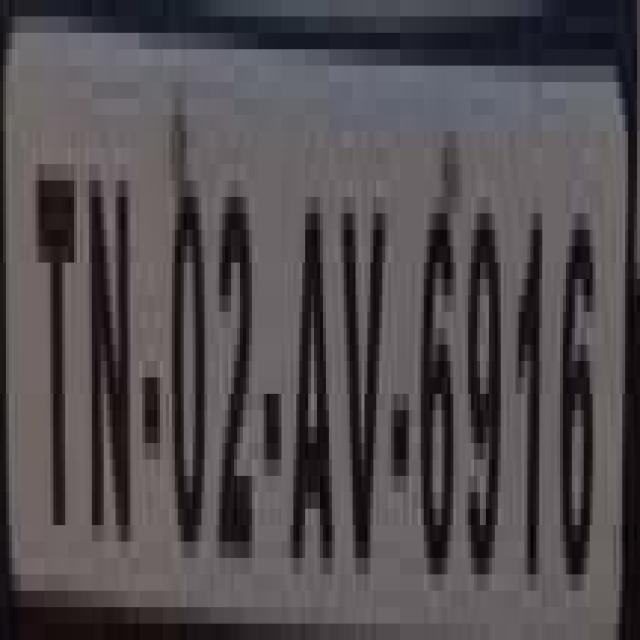license_plate: (29, 16, 640, 639)
